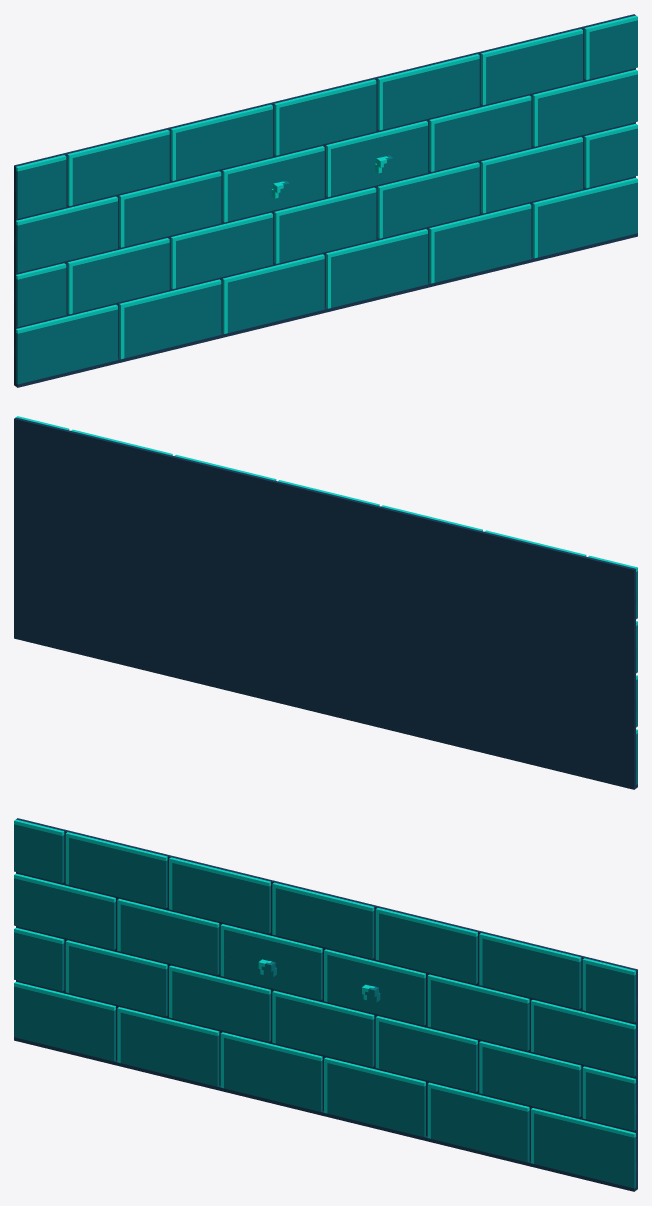
Rendered from LongWall.glb.
3 renders of one model, top to bottom at view 1: azimuth 30°, elevation 25°; view 2: azimuth 150°, elevation 25°; view 3: azimuth 330°, elevation 25°, orthographic.
Parts seen in each view (by area): view 1: LongWall; view 2: LongWall; view 3: LongWall.
Part boxes in pixels (x1,y1,x2,y2): LongWall: (14,14,637,387); LongWall: (14,416,637,789); LongWall: (14,818,637,1191).
Size of what is drawn, in the model's own units: 19.2 by 6.5 by 0.6.
Materials: 1 (1 with a texture image).
